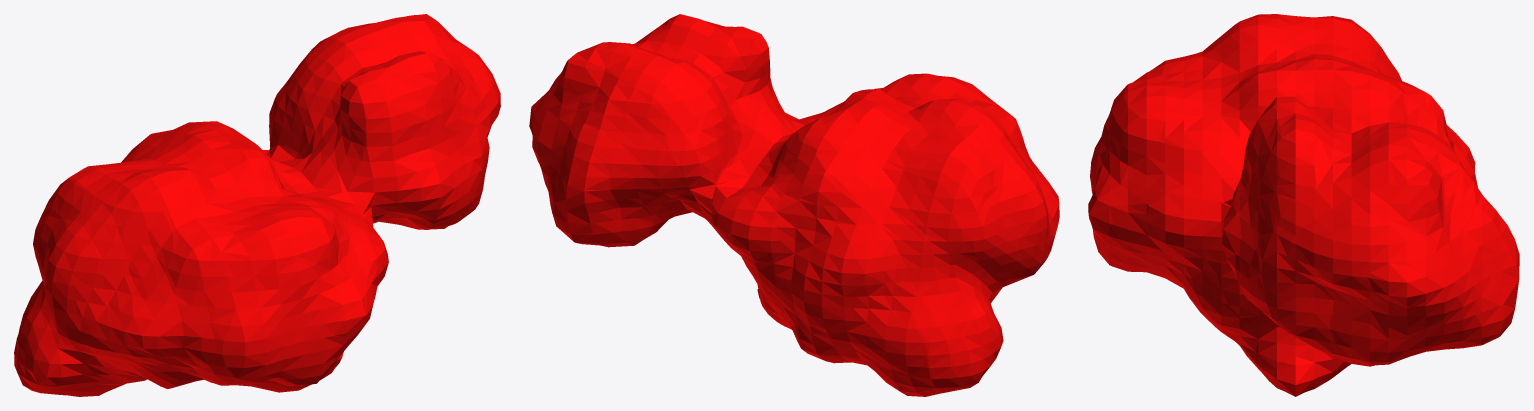
File: ispG_coarse.dae
3 renders of one model, left to right at view 1: azimuth 30°, elevation 25°; view 2: azimuth 150°, elevation 25°; view 3: azimuth 270°, elevation 25°, orthographic. The views are drawn at different scales.
Parts seen in each view (by area): view 1: ispG; view 2: ispG; view 3: ispG.
Part boxes in pixels (bbox=[...]): ispG: bbox=[14, 14, 500, 396]; ispG: bbox=[529, 14, 1059, 396]; ispG: bbox=[1088, 14, 1519, 396].
Bounding box in the file's own units: 80.57 × 47.04 × 56.01.
